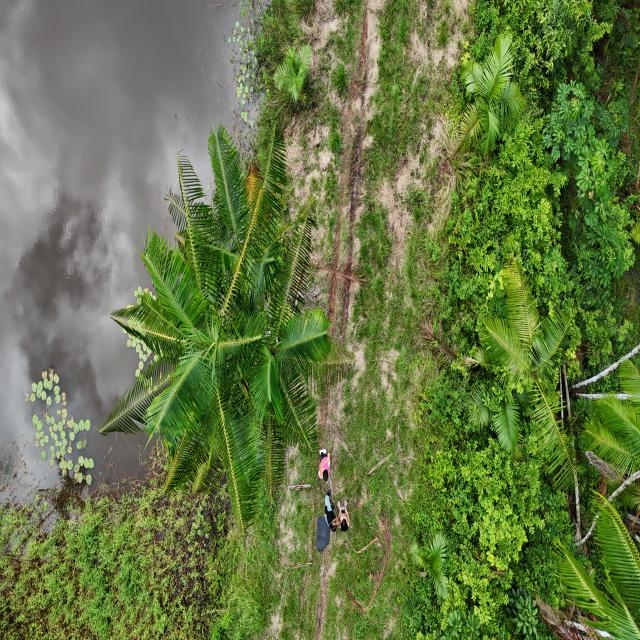vegetation: (96, 113, 354, 547)
